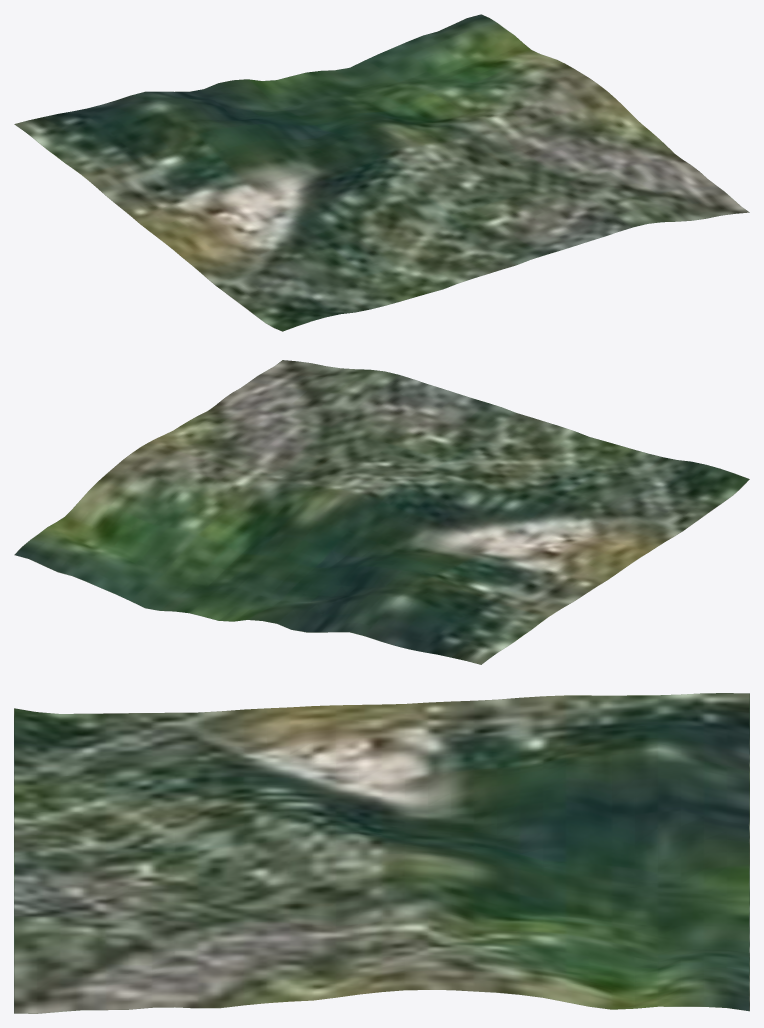
3 views of the same model, one above another, from view 1: azimuth 30°, elevation 25°; view 2: azimuth 150°, elevation 25°; view 3: azimuth 270°, elevation 25° (orthographic). The views are drawn at different scales.
Size of the model in its own units: 975 by 79.49 by 971.
Materials: 1 (1 with a texture image).
